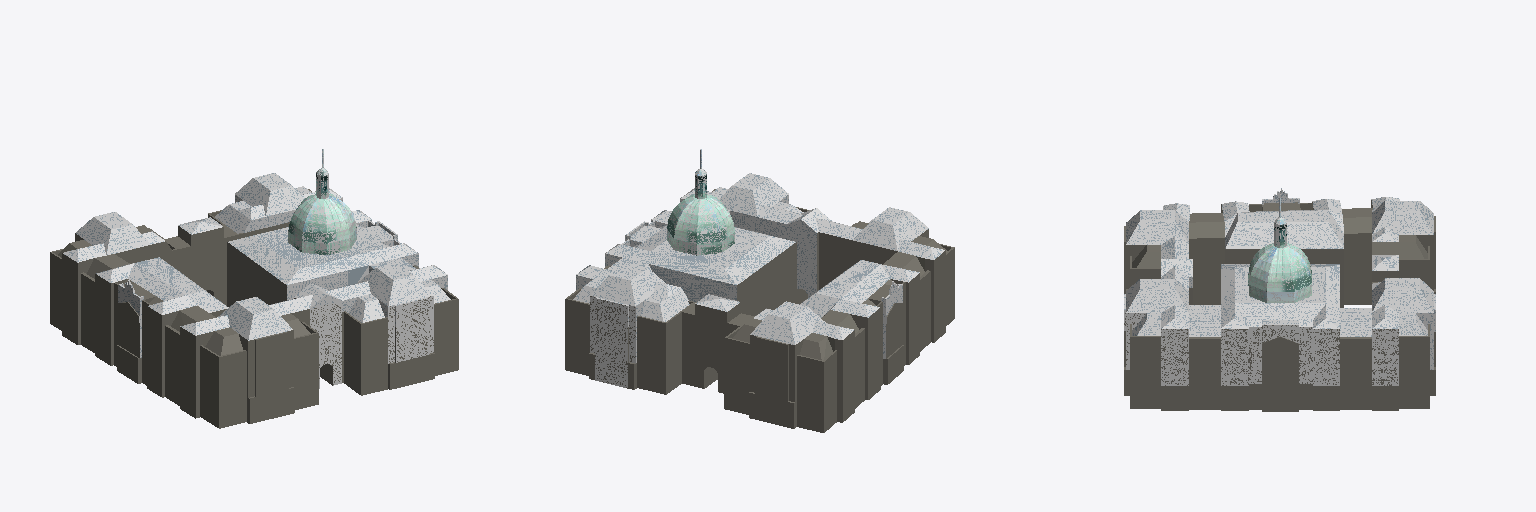
3 views of the same model, side by side, from view 1: azimuth 30°, elevation 25°; view 2: azimuth 150°, elevation 25°; view 3: azimuth 270°, elevation 25° (orthographic).
Parts seen in each view (by area): view 1: Mesh1 Model; view 2: Mesh1 Model; view 3: Mesh1 Model.
Part boxes in pixels (left/top/right/bottom): Mesh1 Model: left=50, top=149, right=458, bottom=428; Mesh1 Model: left=565, top=149, right=954, bottom=432; Mesh1 Model: left=1124, top=188, right=1435, bottom=411.
Bounding box in the file's own units: 65.83 × 42.42 × 66.28.
4 materials, 1 textured.